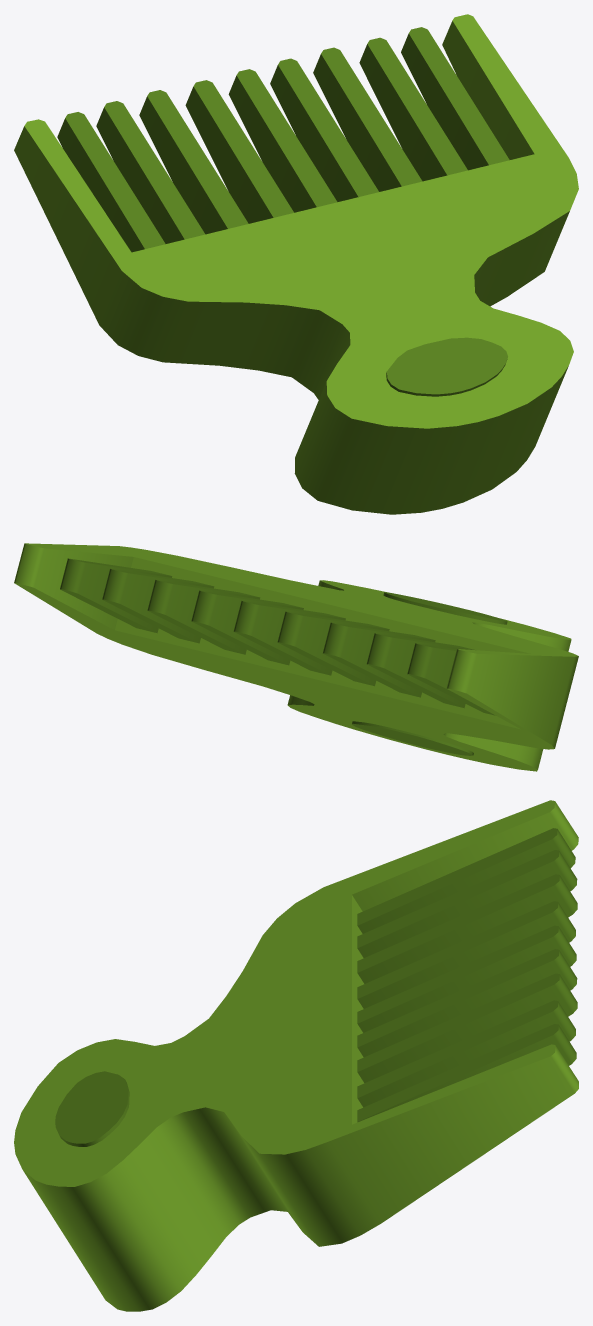
File: AfroComb.fbx
The picture shows the model from 3 angles, top to bottom: view 1: azimuth 30°, elevation 25°; view 2: azimuth 150°, elevation 25°; view 3: azimuth 270°, elevation 25°; orthographic projection. The views are drawn at different scales.
Visible parts, largest first — view 1: Mesh-AfroComb; view 2: Mesh-AfroComb; view 3: Mesh-AfroComb.
Boxes of the visible parts, box(x1,y1,x2,y2) form: Mesh-AfroComb: box(14, 14, 578, 514); Mesh-AfroComb: box(14, 543, 578, 771); Mesh-AfroComb: box(14, 800, 578, 1311).
Size of the model in its own units: 0.901 by 0.57 by 0.8379.
Materials: 1 (1 with a texture image).
